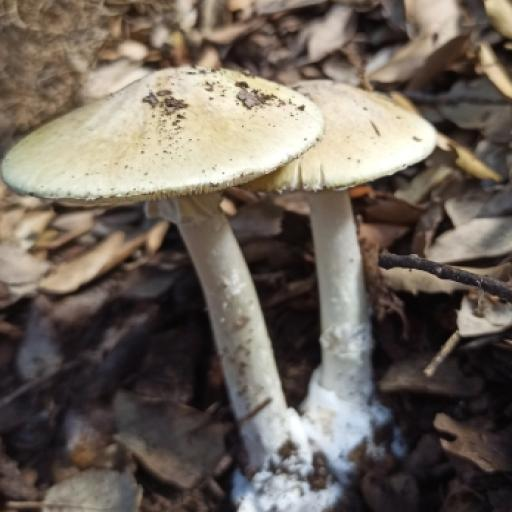mushroom: (0, 39, 440, 512), (206, 140, 340, 421)
